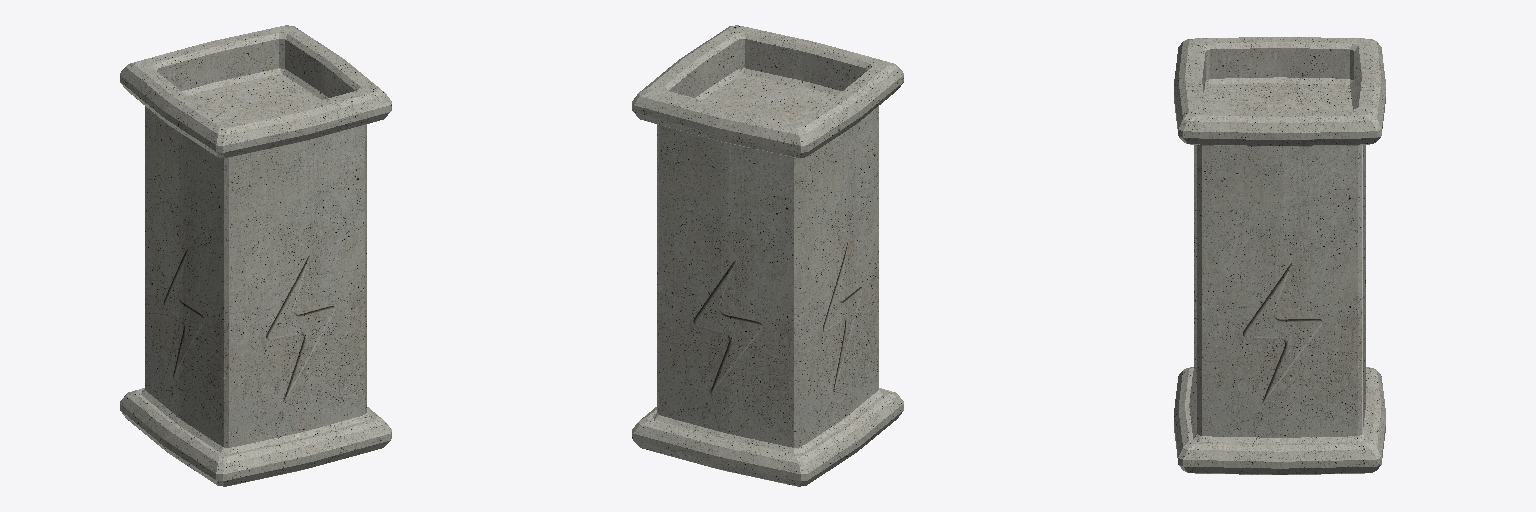
3 views of the same model, side by side, from view 1: azimuth 30°, elevation 25°; view 2: azimuth 150°, elevation 25°; view 3: azimuth 270°, elevation 25° (orthographic).
Visible parts, largest first — view 1: thunder_Plane.004; view 2: thunder_Plane.004; view 3: thunder_Plane.004.
Part boxes in pixels (left/top/right/bottom): thunder_Plane.004: left=120, top=25, right=391, bottom=486; thunder_Plane.004: left=632, top=25, right=903, bottom=486; thunder_Plane.004: left=1174, top=37, right=1385, bottom=474.
Size of the model in its own units: 0.1291 by 0.24 by 0.1291.
1 materials, 1 textured.